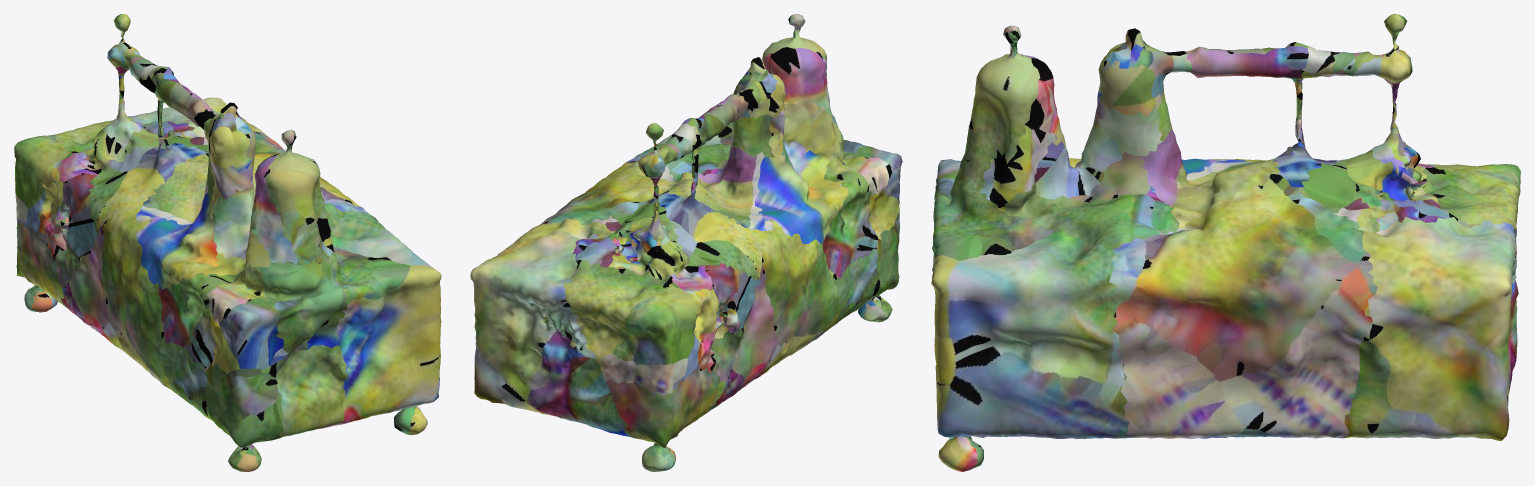
Rendered from Scientific_Equipment_0822025449_preview.obj.
3 renders of one model, left to right at view 1: azimuth 30°, elevation 25°; view 2: azimuth 150°, elevation 25°; view 3: azimuth 270°, elevation 25°, orthographic. The views are drawn at different scales.
Parts seen in each view (by area): view 1: Mesh1; view 2: Mesh1; view 3: Mesh1.
Part boxes in pixels (x1=…): Mesh1: x1=14, y1=14, x2=441, y2=471; Mesh1: x1=470, y1=14, x2=902, y2=471; Mesh1: x1=931, y1=14, x2=1520, y2=471.
Bounding box in the file's own units: 0.6585 × 0.8697 × 1.2.
